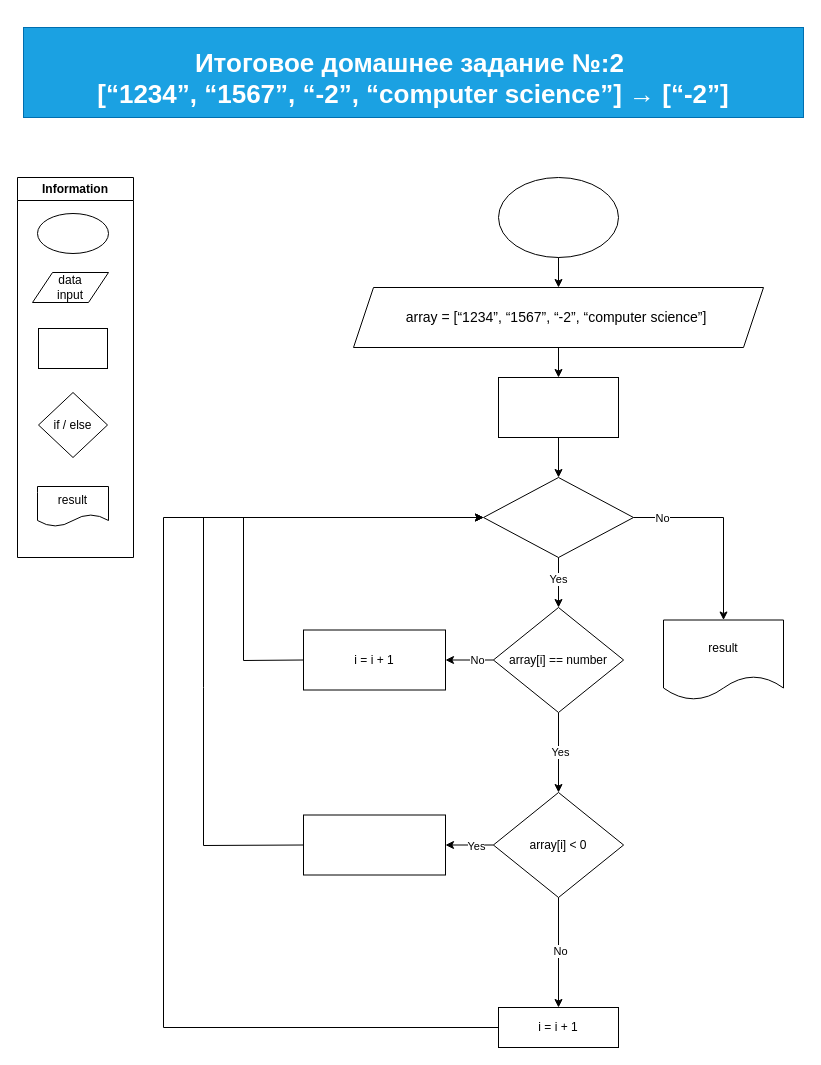
Some shapes in this 821 by 1065 pixel diagram are drawn without their labels. Each missing label, with the centre of its shape:
i < array.length: point (558, 517)
i = 0 result = "": point (558, 407)
process: point (73, 348)
result = result + array[i] i = i + 1: point (374, 844)
Start: point (558, 217)
start / end: point (72, 233)
